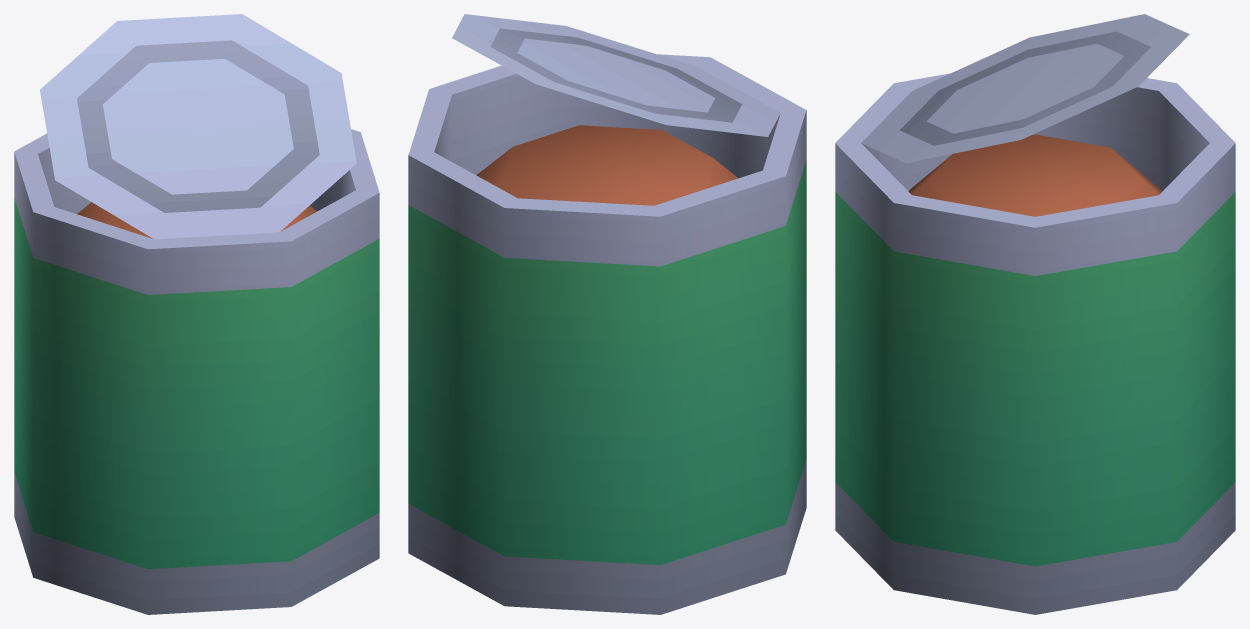
File: can-open.b83a850856.glb
The picture shows the model from 3 angles, left to right: view 1: azimuth 30°, elevation 25°; view 2: azimuth 150°, elevation 25°; view 3: azimuth 270°, elevation 25°; orthographic projection. The views are drawn at different scales.
Visible parts, largest first — view 1: can-open; view 2: can-open; view 3: can-open.
Part boxes in pixels (bbox=[...]): can-open: bbox=[14, 14, 379, 614]; can-open: bbox=[408, 14, 806, 614]; can-open: bbox=[835, 14, 1235, 614].
Bounding box in the file's own units: 0.3 × 0.4071 × 0.3.
Materials: 1 (1 with a texture image).
